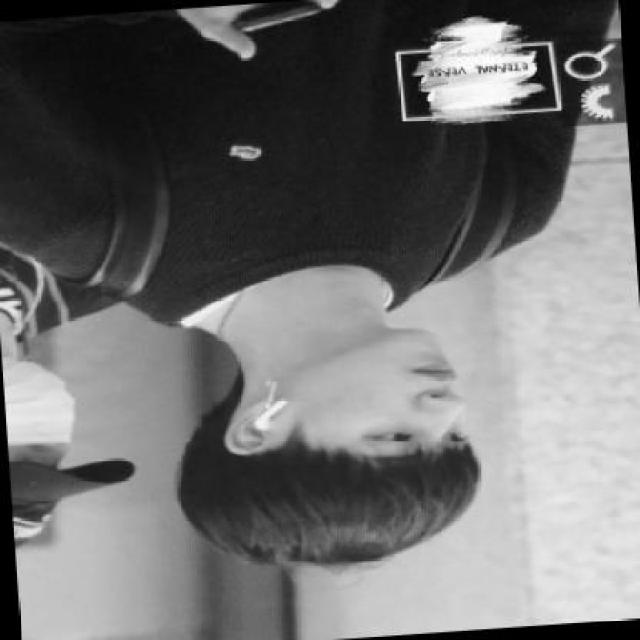earphone: (257, 387, 305, 449)
smart phone: (231, 6, 342, 41)
